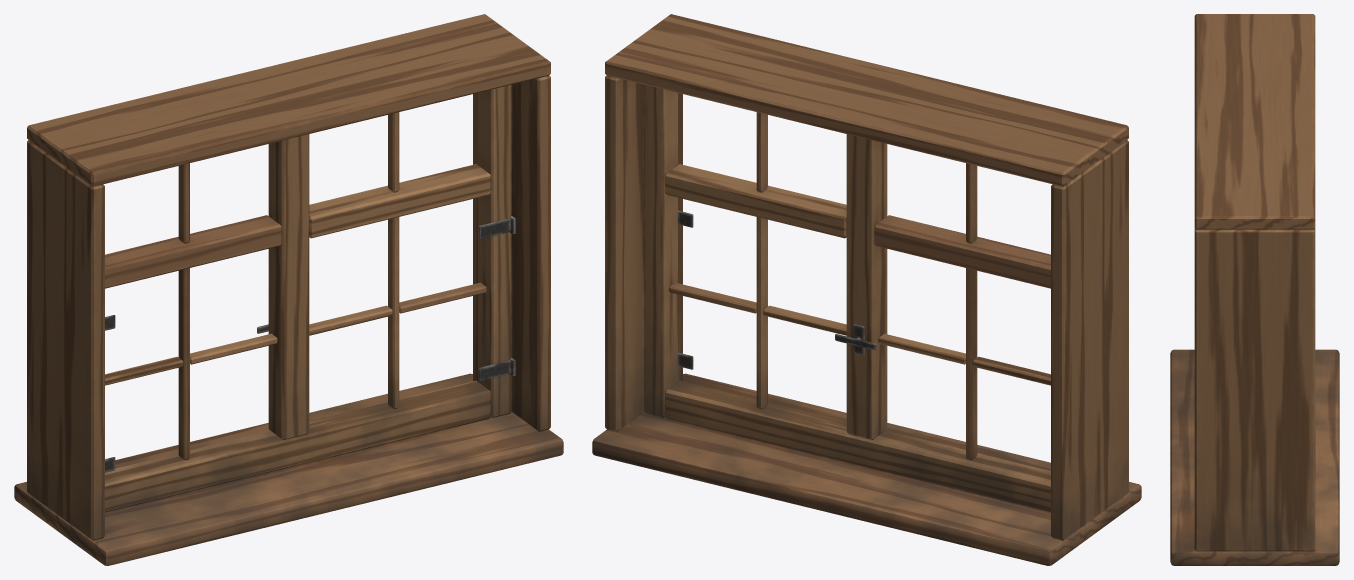
The model's file is window_wood.glb.
The picture shows the model from 3 angles, left to right: view 1: azimuth 30°, elevation 25°; view 2: azimuth 150°, elevation 25°; view 3: azimuth 270°, elevation 25°; orthographic projection. The views are drawn at different scales.
Visible parts, largest first — view 1: window_wood; view 2: window_wood; view 3: window_wood.
Part boxes in pixels (x1=…): window_wood: x1=14, y1=14, x2=563, y2=565; window_wood: x1=592, y1=14, x2=1141, y2=565; window_wood: x1=1170, y1=14, x2=1339, y2=565.
Bounding box in the file's own units: 1 × 0.8 × 0.35.
Materials: 1 (1 with a texture image).
